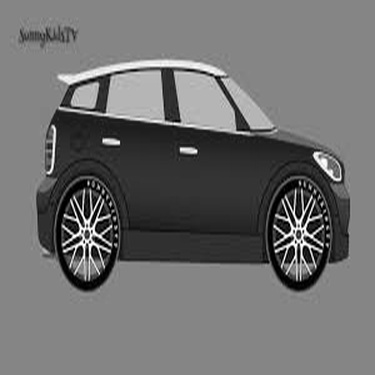car: (25, 58, 354, 293)
